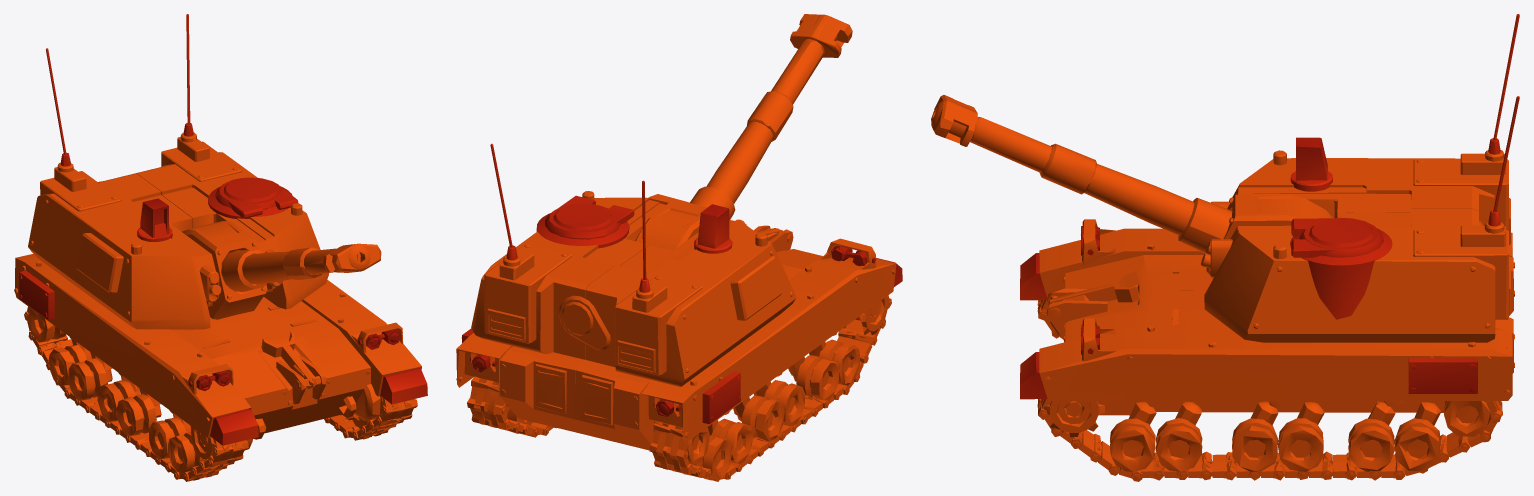
The model's file is wb-howitzer2.fbx.
3 renders of one model, left to right at view 1: azimuth 30°, elevation 25°; view 2: azimuth 150°, elevation 25°; view 3: azimuth 270°, elevation 25°, orthographic. The views are drawn at different scales.
Visible parts, largest first — view 1: WbHowitzer, Turret, Gun; view 2: WbHowitzer, Turret, Gun; view 3: WbHowitzer, Turret, Gun.
Boxes of the visible parts, left/top/right/bottom form: WbHowitzer: left=14, top=254, right=427, bottom=481; Turret: left=28, top=14, right=328, bottom=329; Gun: left=182, top=221, right=381, bottom=319; WbHowitzer: left=456, top=194, right=902, bottom=481; Turret: left=471, top=143, right=796, bottom=386; Gun: left=635, top=14, right=852, bottom=250; WbHowitzer: left=1020, top=219, right=1514, bottom=481; Turret: left=1201, top=14, right=1519, bottom=342; Gun: left=931, top=95, right=1333, bottom=278.
Size of the model in its own units: 0.6048 by 0.7671 by 1.11.
